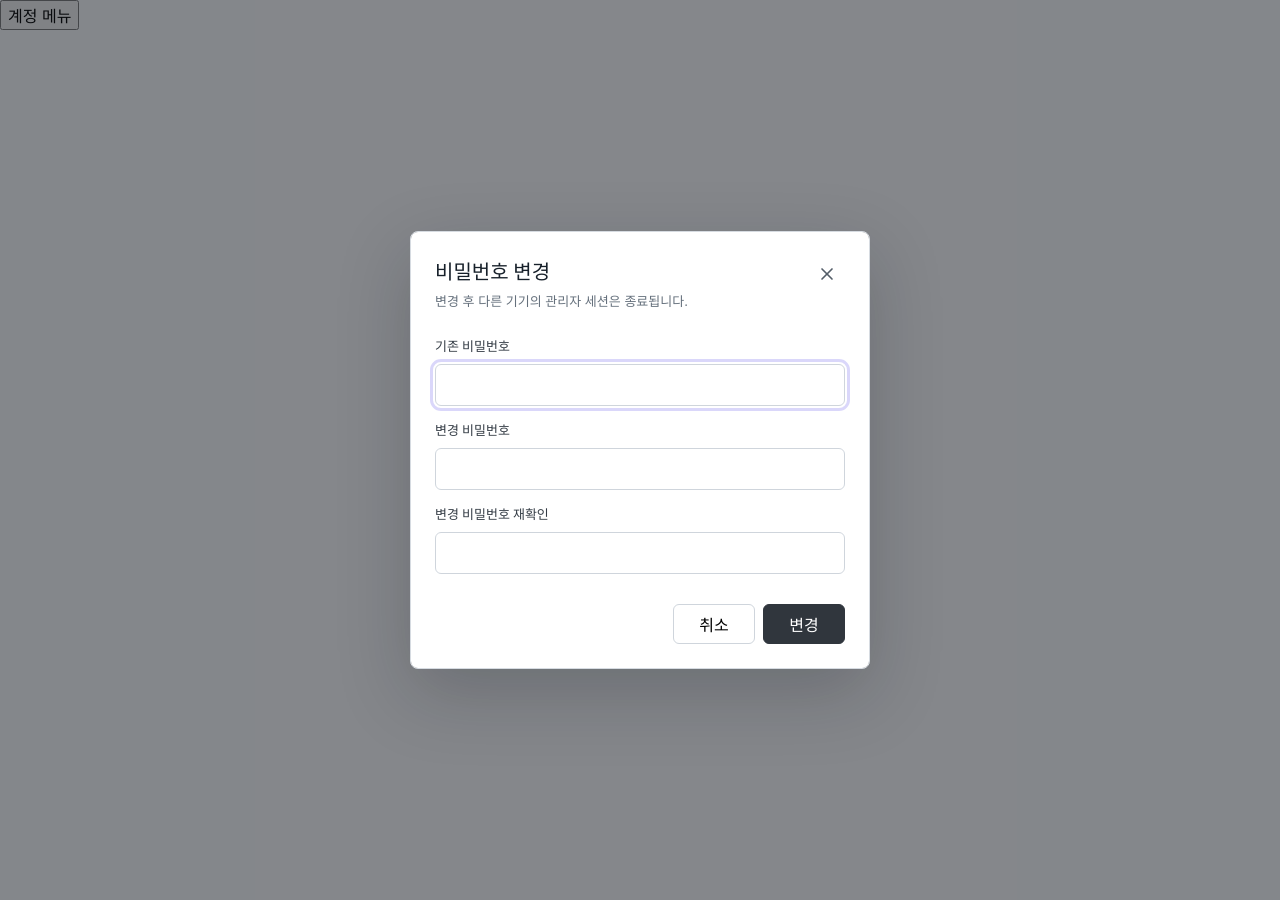
Test: AdminPasswordChangeDialog › validates confirmation locally and never sends it to the server
Type "old password" into the password field labelled "기존 비밀번호".
click(640, 385); type("old password")  # box [435,364,845,406]
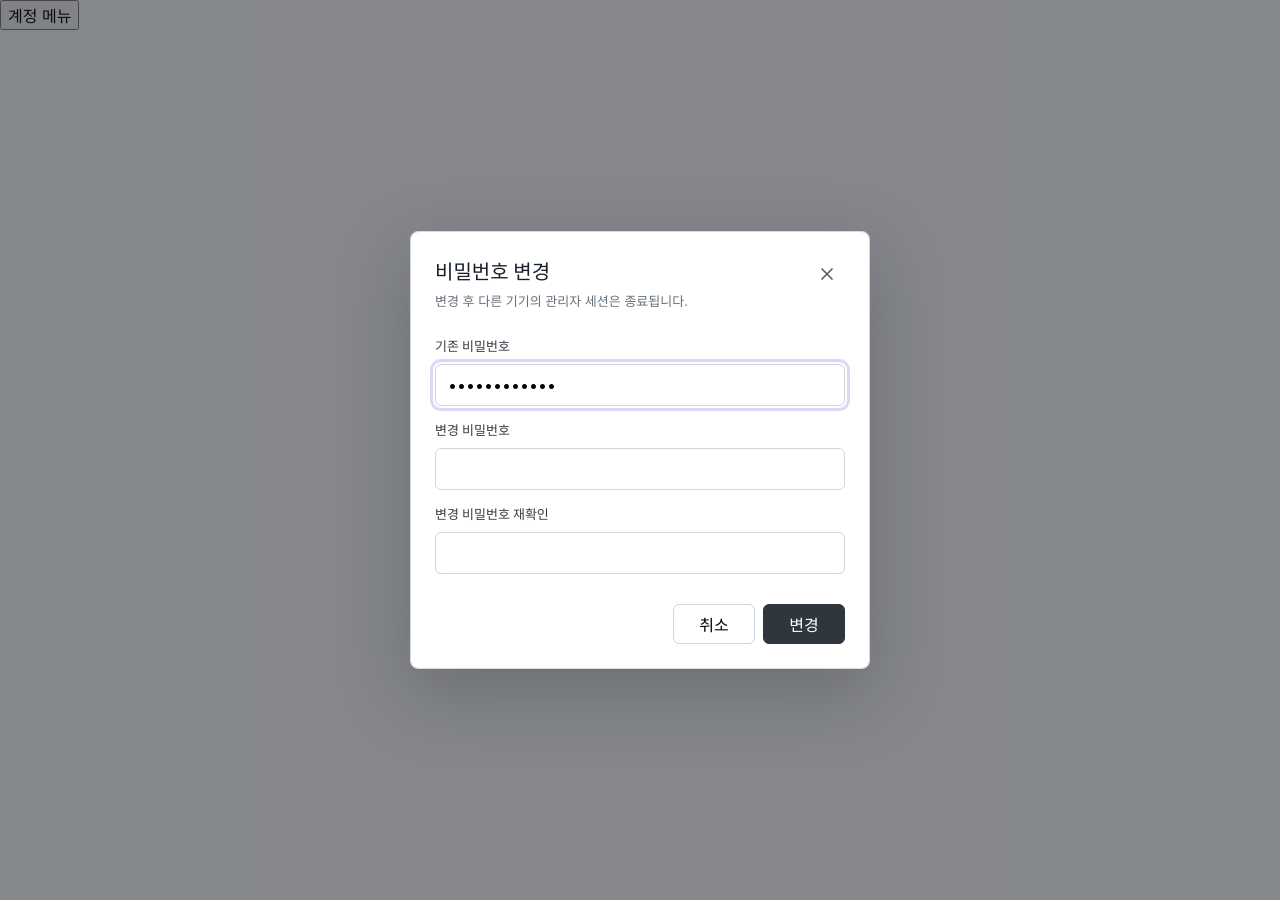
Type "new password" into the password field labelled "변경 비밀번호".
click(640, 469); type("new password")  # box [435,448,845,490]
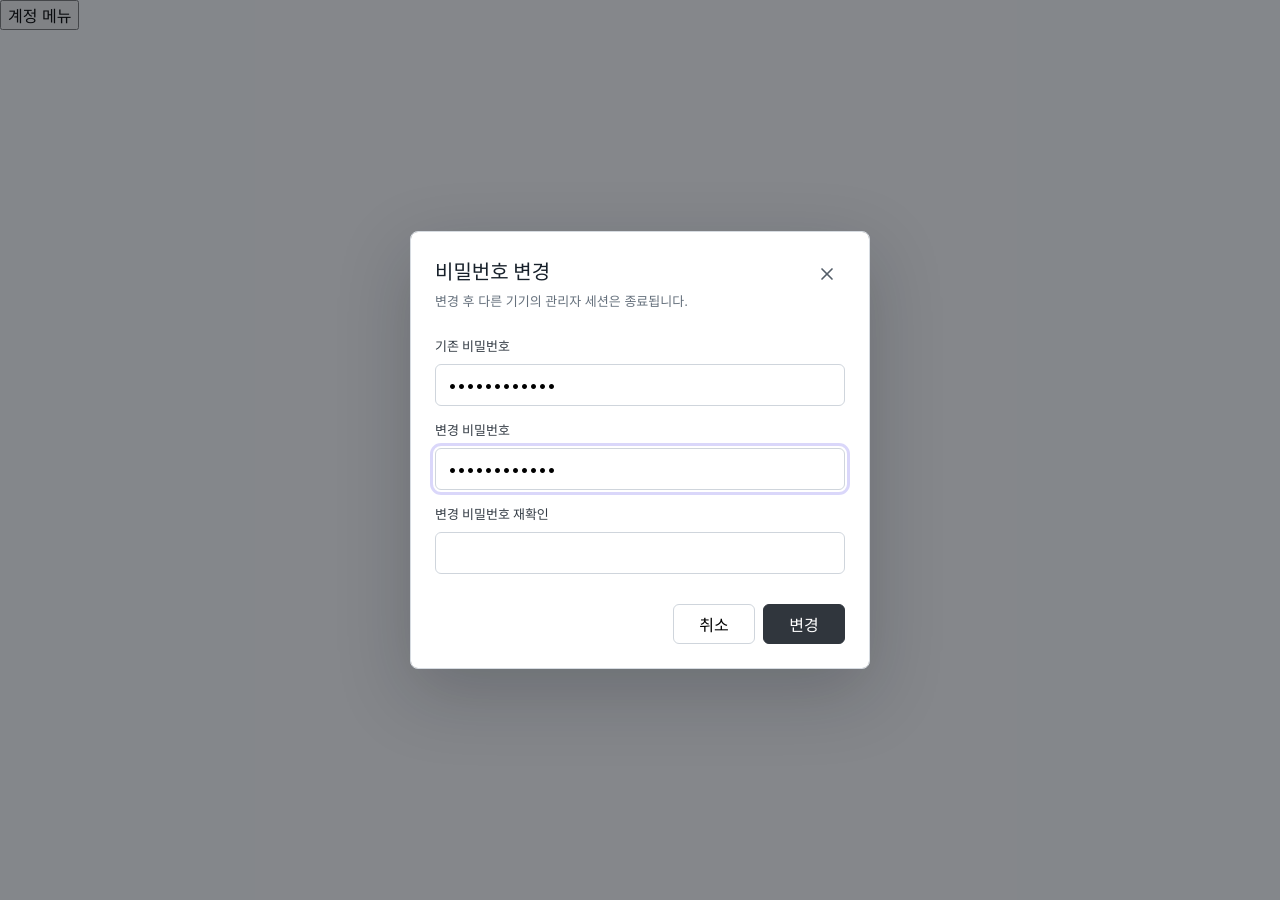
Type "different password" into the password field labelled "변경 비밀번호 재확인".
click(640, 553); type("different password")  # box [435,532,845,574]
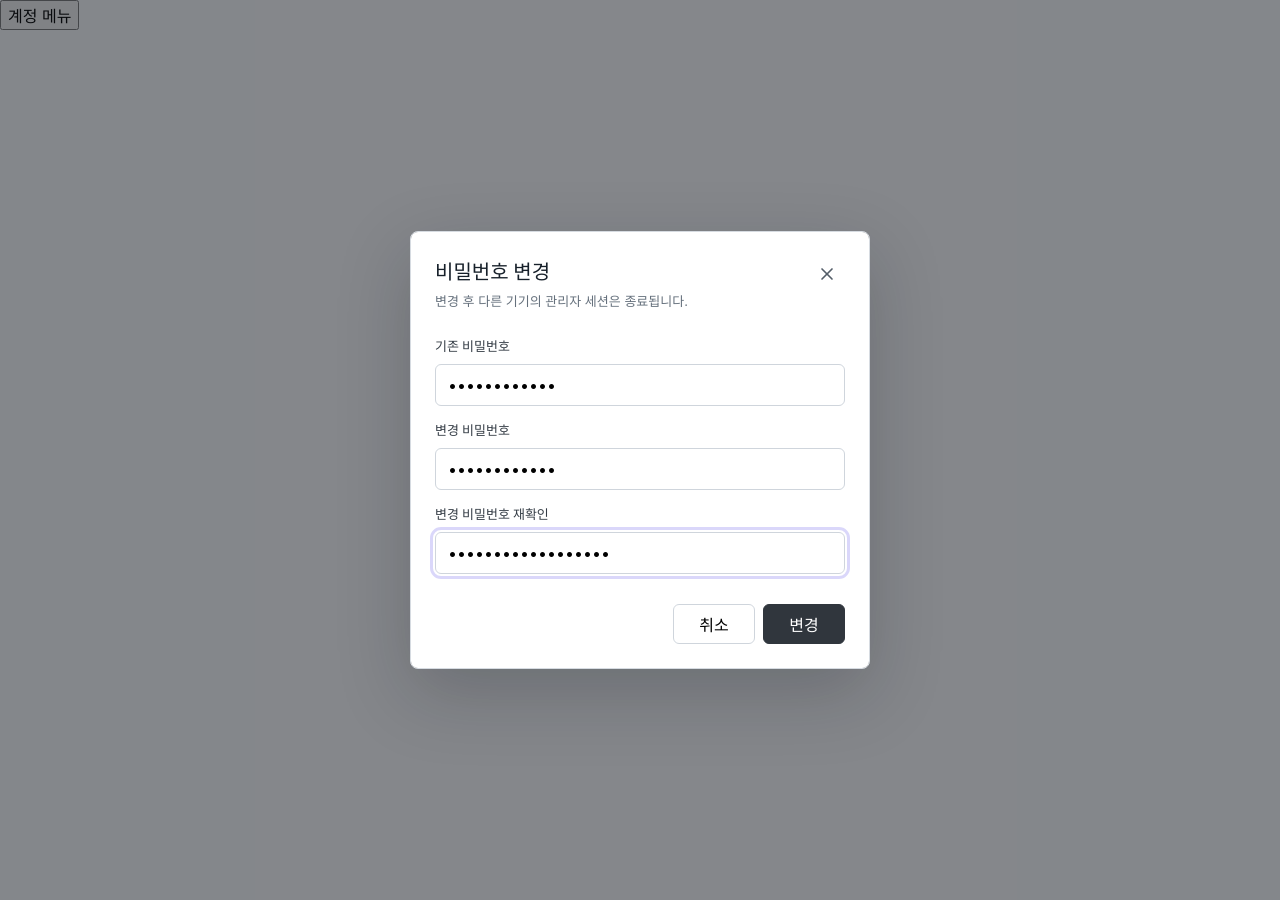
Click the button "변경".
click(804, 624)  # box [763,604,845,644]
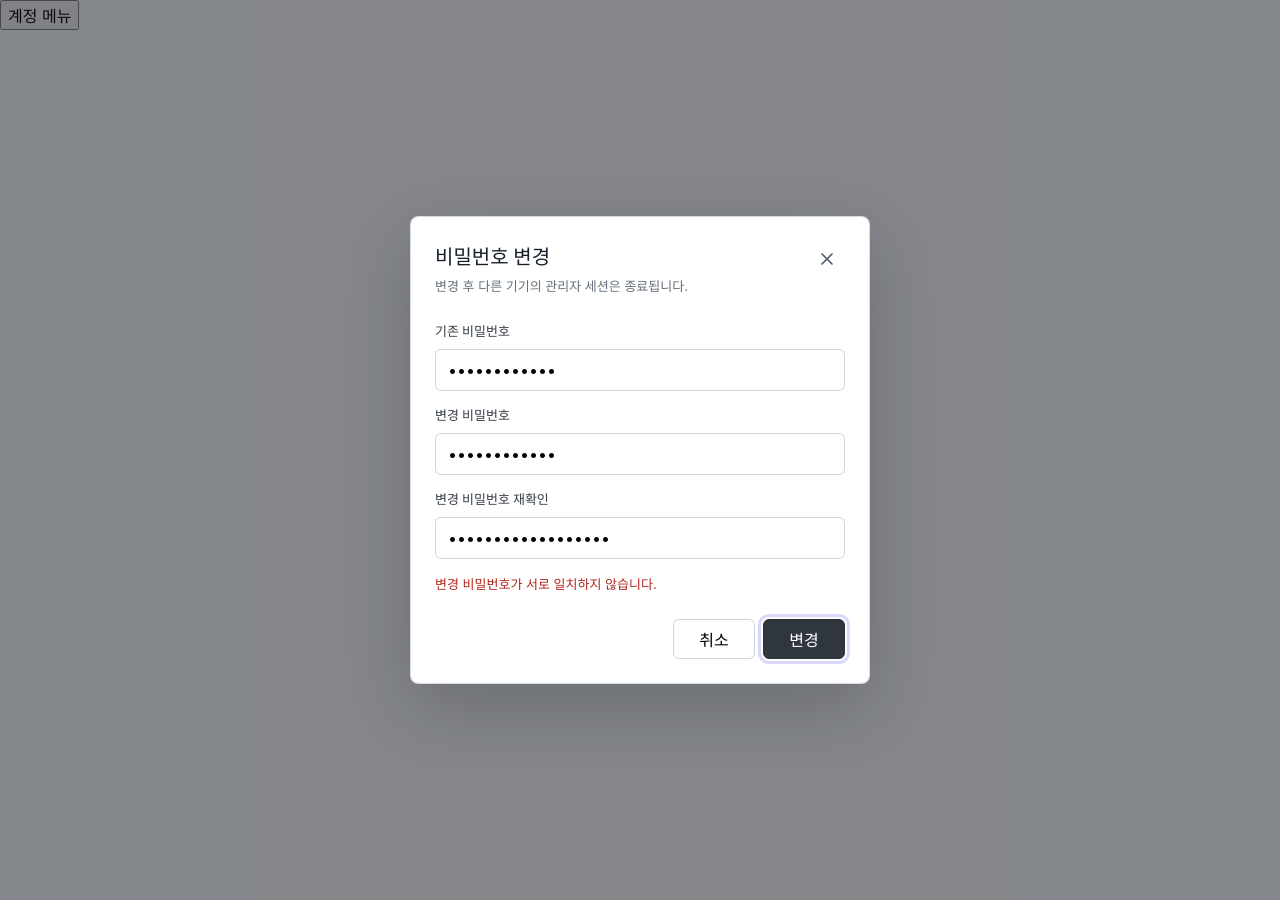
expect the message shows "일치하지 않습니다": met, box [435,576,657,592]
Type "new password" into the password field labelled "변경 비밀번호 재확인".
click(640, 538); type("new password")  # box [435,516,845,558]
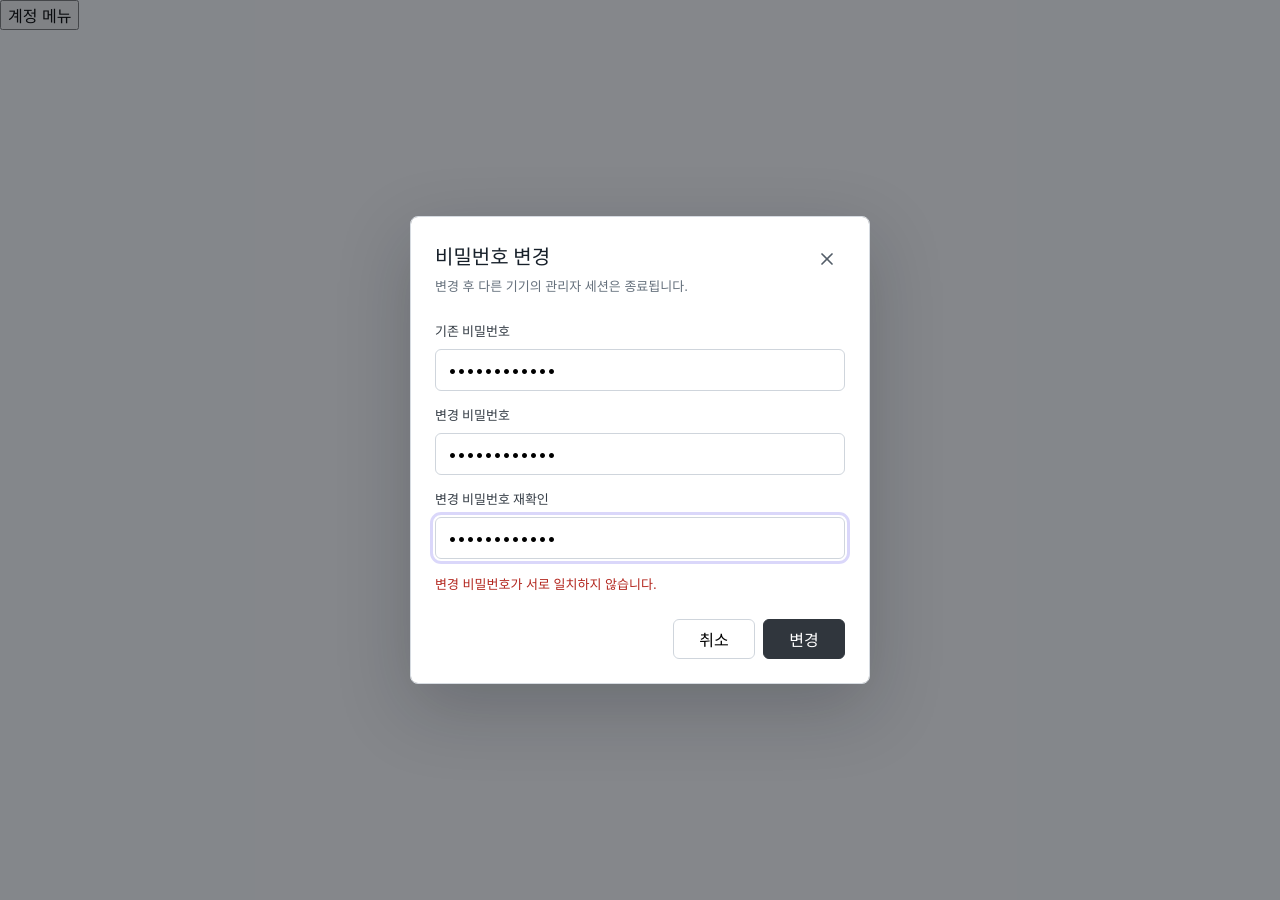
Click the button "변경".
click(804, 639)  # box [763,619,845,659]
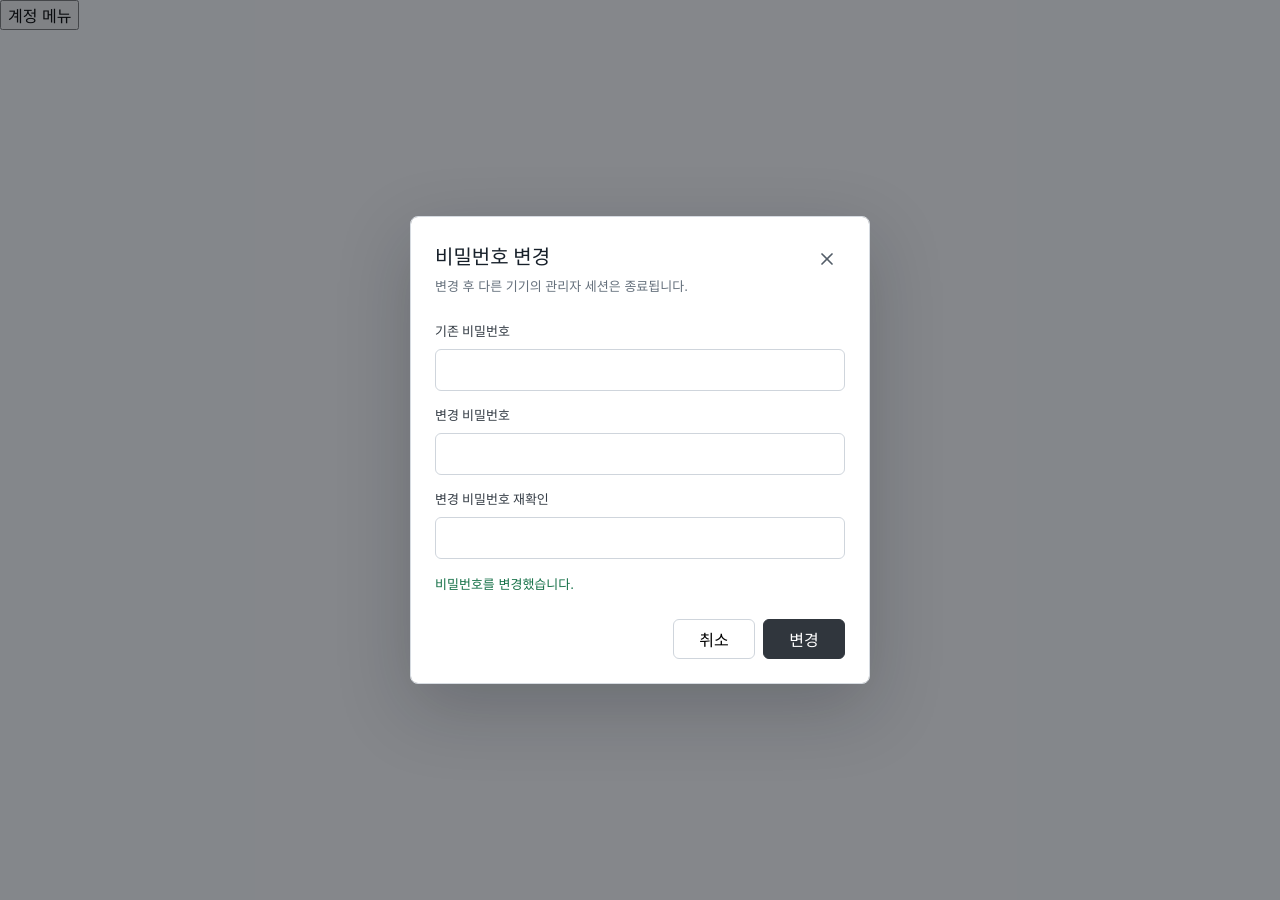
expect the message "비밀번호를 변경했습니다." is shown: met, box [435,576,574,592]
expect the password field labelled "기존 비밀번호" is empty: met, box [435,348,845,390]
expect the password field labelled "변경 비밀번호" is empty: met, box [435,432,845,474]
